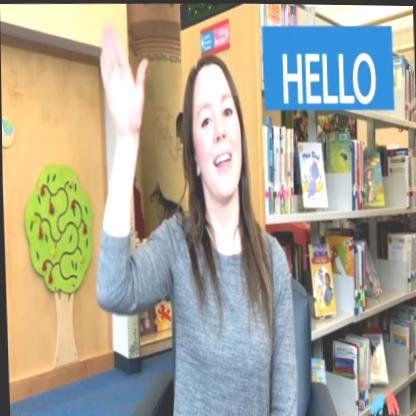Hello: (99, 15, 249, 293)
